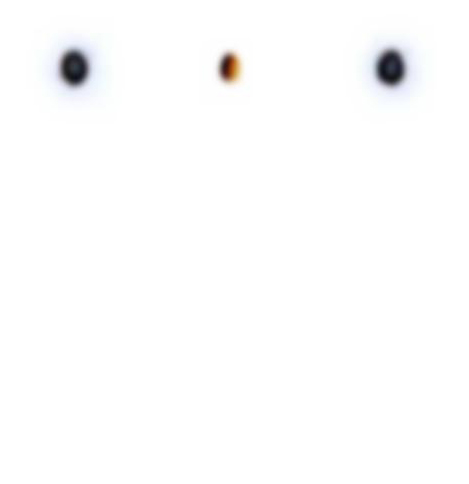cancer: (347, 37, 430, 103), (40, 34, 118, 100)
normal: (203, 41, 273, 92)
